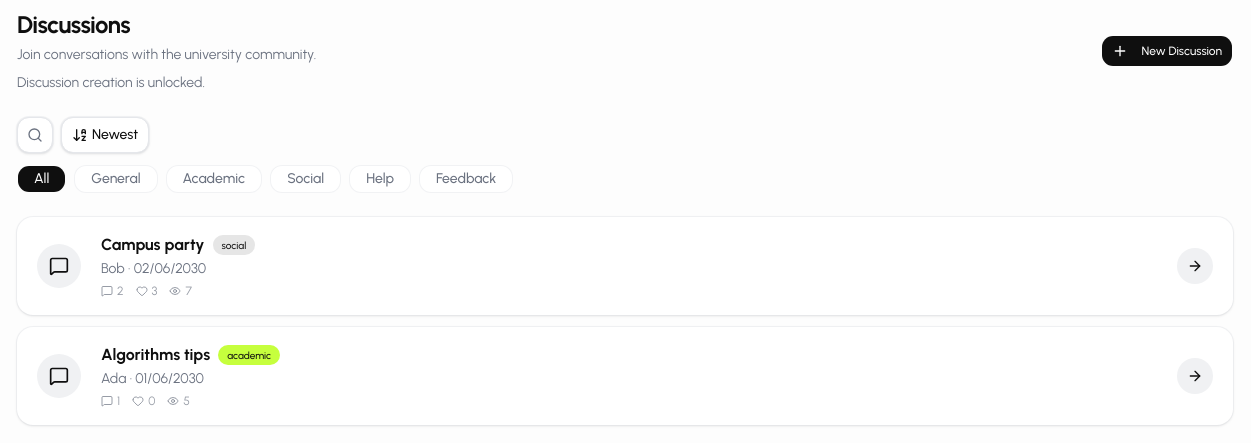
Scenario: discussions route › filters the rendered discussions by search
The width and height of the screenshot is (1251, 443).
Check: the heading "Algorithms tips" is shown, box [101,343,210,367]
Step 1. Click the 2nd button → (35, 135), box [17,117,53,153]
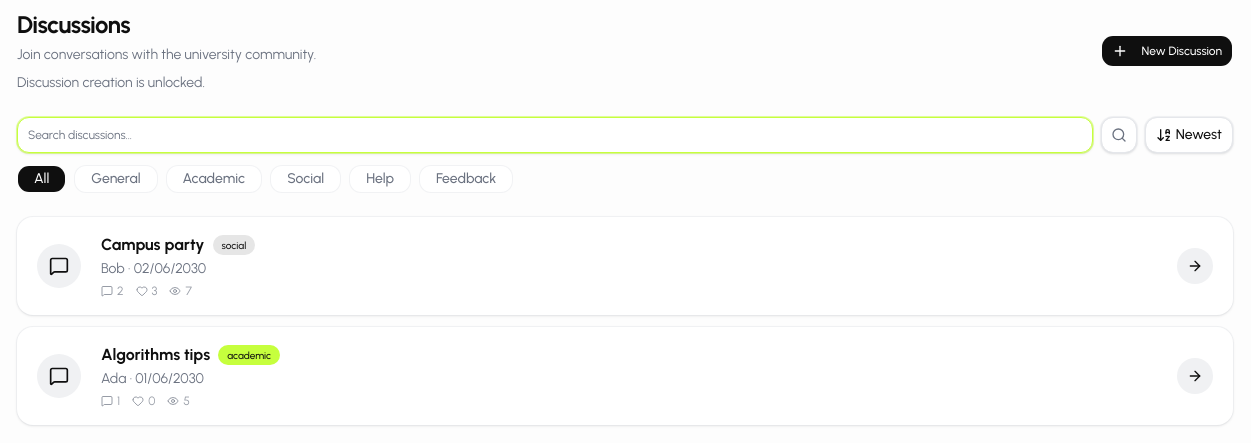
Step 2. Type "Algorithms" into the field with placeholder "Search discussions..." → (555, 135), box [17,117,1093,153]
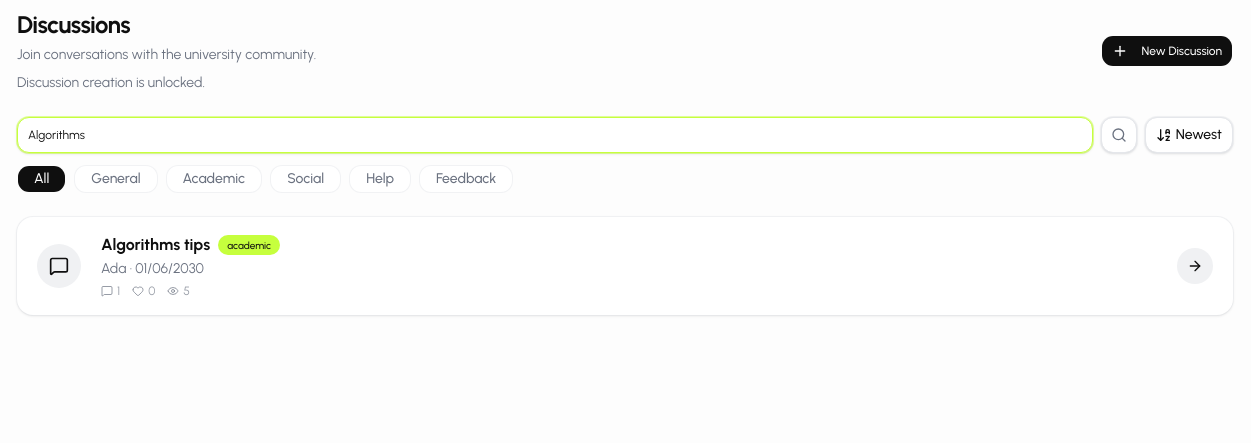
Check: the heading "Algorithms tips" is shown, box [101,233,210,257]
Check: the link "Campus party" is gone
